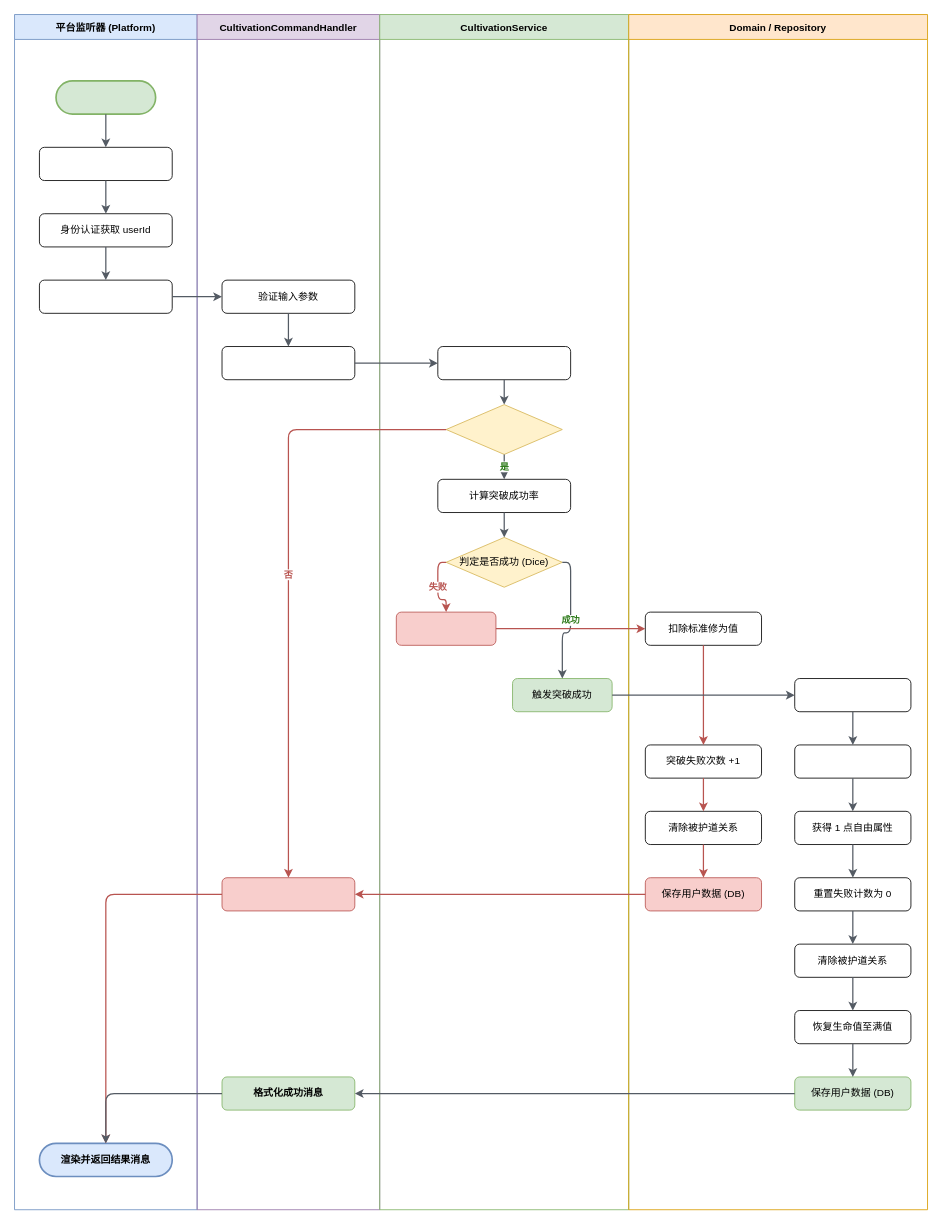
This 942x1224 diagram has some shape labels left out. The shapes that lost their labels are listed below. From the top down, each one's centre as x and y in pixels, then its label:
(105,97): 开始突破
(105,163): 接收突破命令
(105,296): 调用 handleBreakthrough()
(288,363): 调用 attemptBreakthrough()
(504,363): 查询用户信息
(503,429): 检查经验是否足够?
(445,628): 触发突破失败
(852,695): 更新大境界等级 +1
(852,761): 扣除升级所需经验
(288,894): 格式化失败消息
